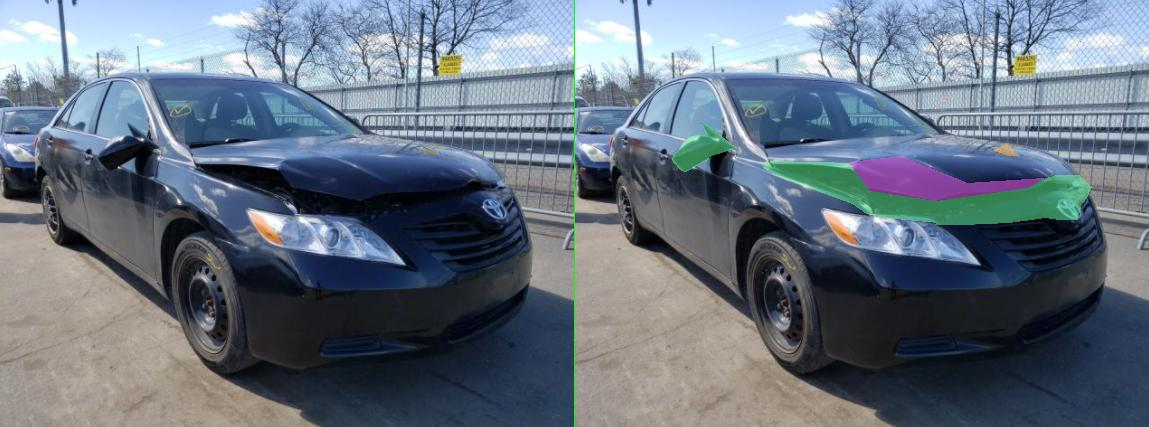Broken part: (376, 161, 1031, 223), (721, 185, 1033, 224), (194, 122, 320, 171)
Dent: (548, 156, 937, 200)
Paint chip: (839, 143, 887, 155)
